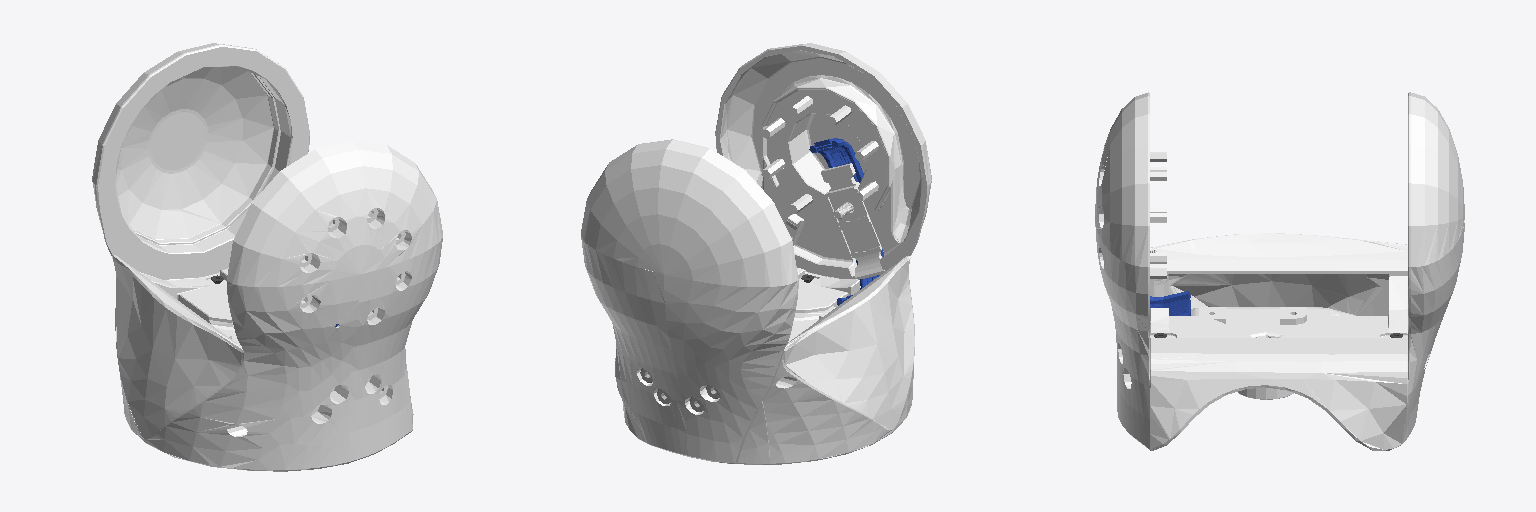
The model's file is elbow1_right.obj.
3 renders of one model, left to right at view 1: azimuth 30°, elevation 25°; view 2: azimuth 150°, elevation 25°; view 3: azimuth 270°, elevation 25°, orthographic.
Parts seen in each view (by area): view 1: elbow1_right; view 2: elbow1_right; view 3: elbow1_right.
Part boxes in pixels (x1,y1,x2,y2): elbow1_right: (92, 43, 442, 471); elbow1_right: (581, 43, 931, 464); elbow1_right: (1095, 92, 1464, 450).
Bounding box in the file's own units: 0.1009 × 0.1273 × 0.1365.